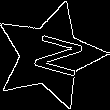N_W: (19, 29, 81, 82)
